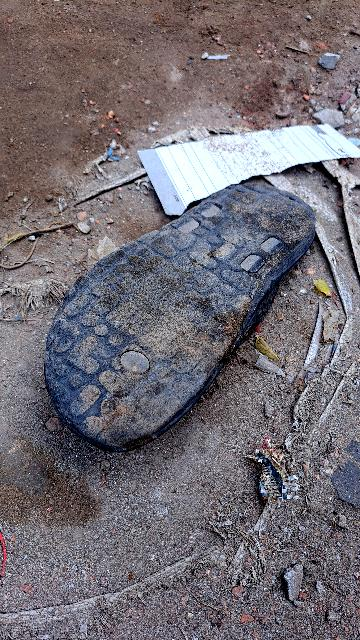sandal: (13, 126, 324, 456)
